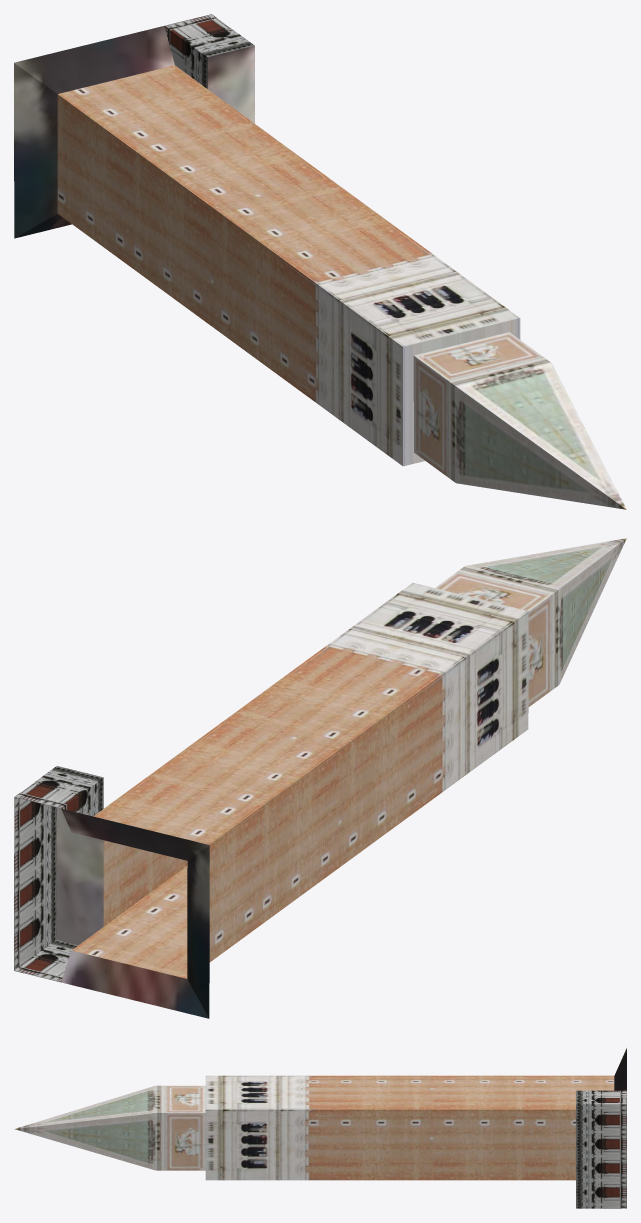
File: san_marco_tower.obj
3 renders of one model, top to bottom at view 1: azimuth 30°, elevation 25°; view 2: azimuth 150°, elevation 25°; view 3: azimuth 270°, elevation 25°, orthographic. The views are drawn at different scales.
Parts seen in each view (by area): view 1: mesh10, group1, group2; view 2: mesh10, group1, group2; view 3: mesh10, group2, group1.
Part boxes in pixels (x1=…): mesh10: x1=57, y1=65, x2=626, y2=509; group1: x1=14, y1=26, x2=254, y2=238; group2: x1=164, y1=14, x2=254, y2=88; mesh10: x1=71, y1=538, x2=626, y2=978; group1: x1=56, y1=807, x2=209, y2=1018; group2: x1=14, y1=766, x2=103, y2=982; mesh10: x1=14, y1=1075, x2=614, y2=1180; group2: x1=576, y1=1090, x2=626, y2=1208; group1: x1=614, y1=1048, x2=626, y2=1090.
Size of the model in its own units: 20 by 17.01 by 90.53.
Materials: 3 (3 with a texture image).
